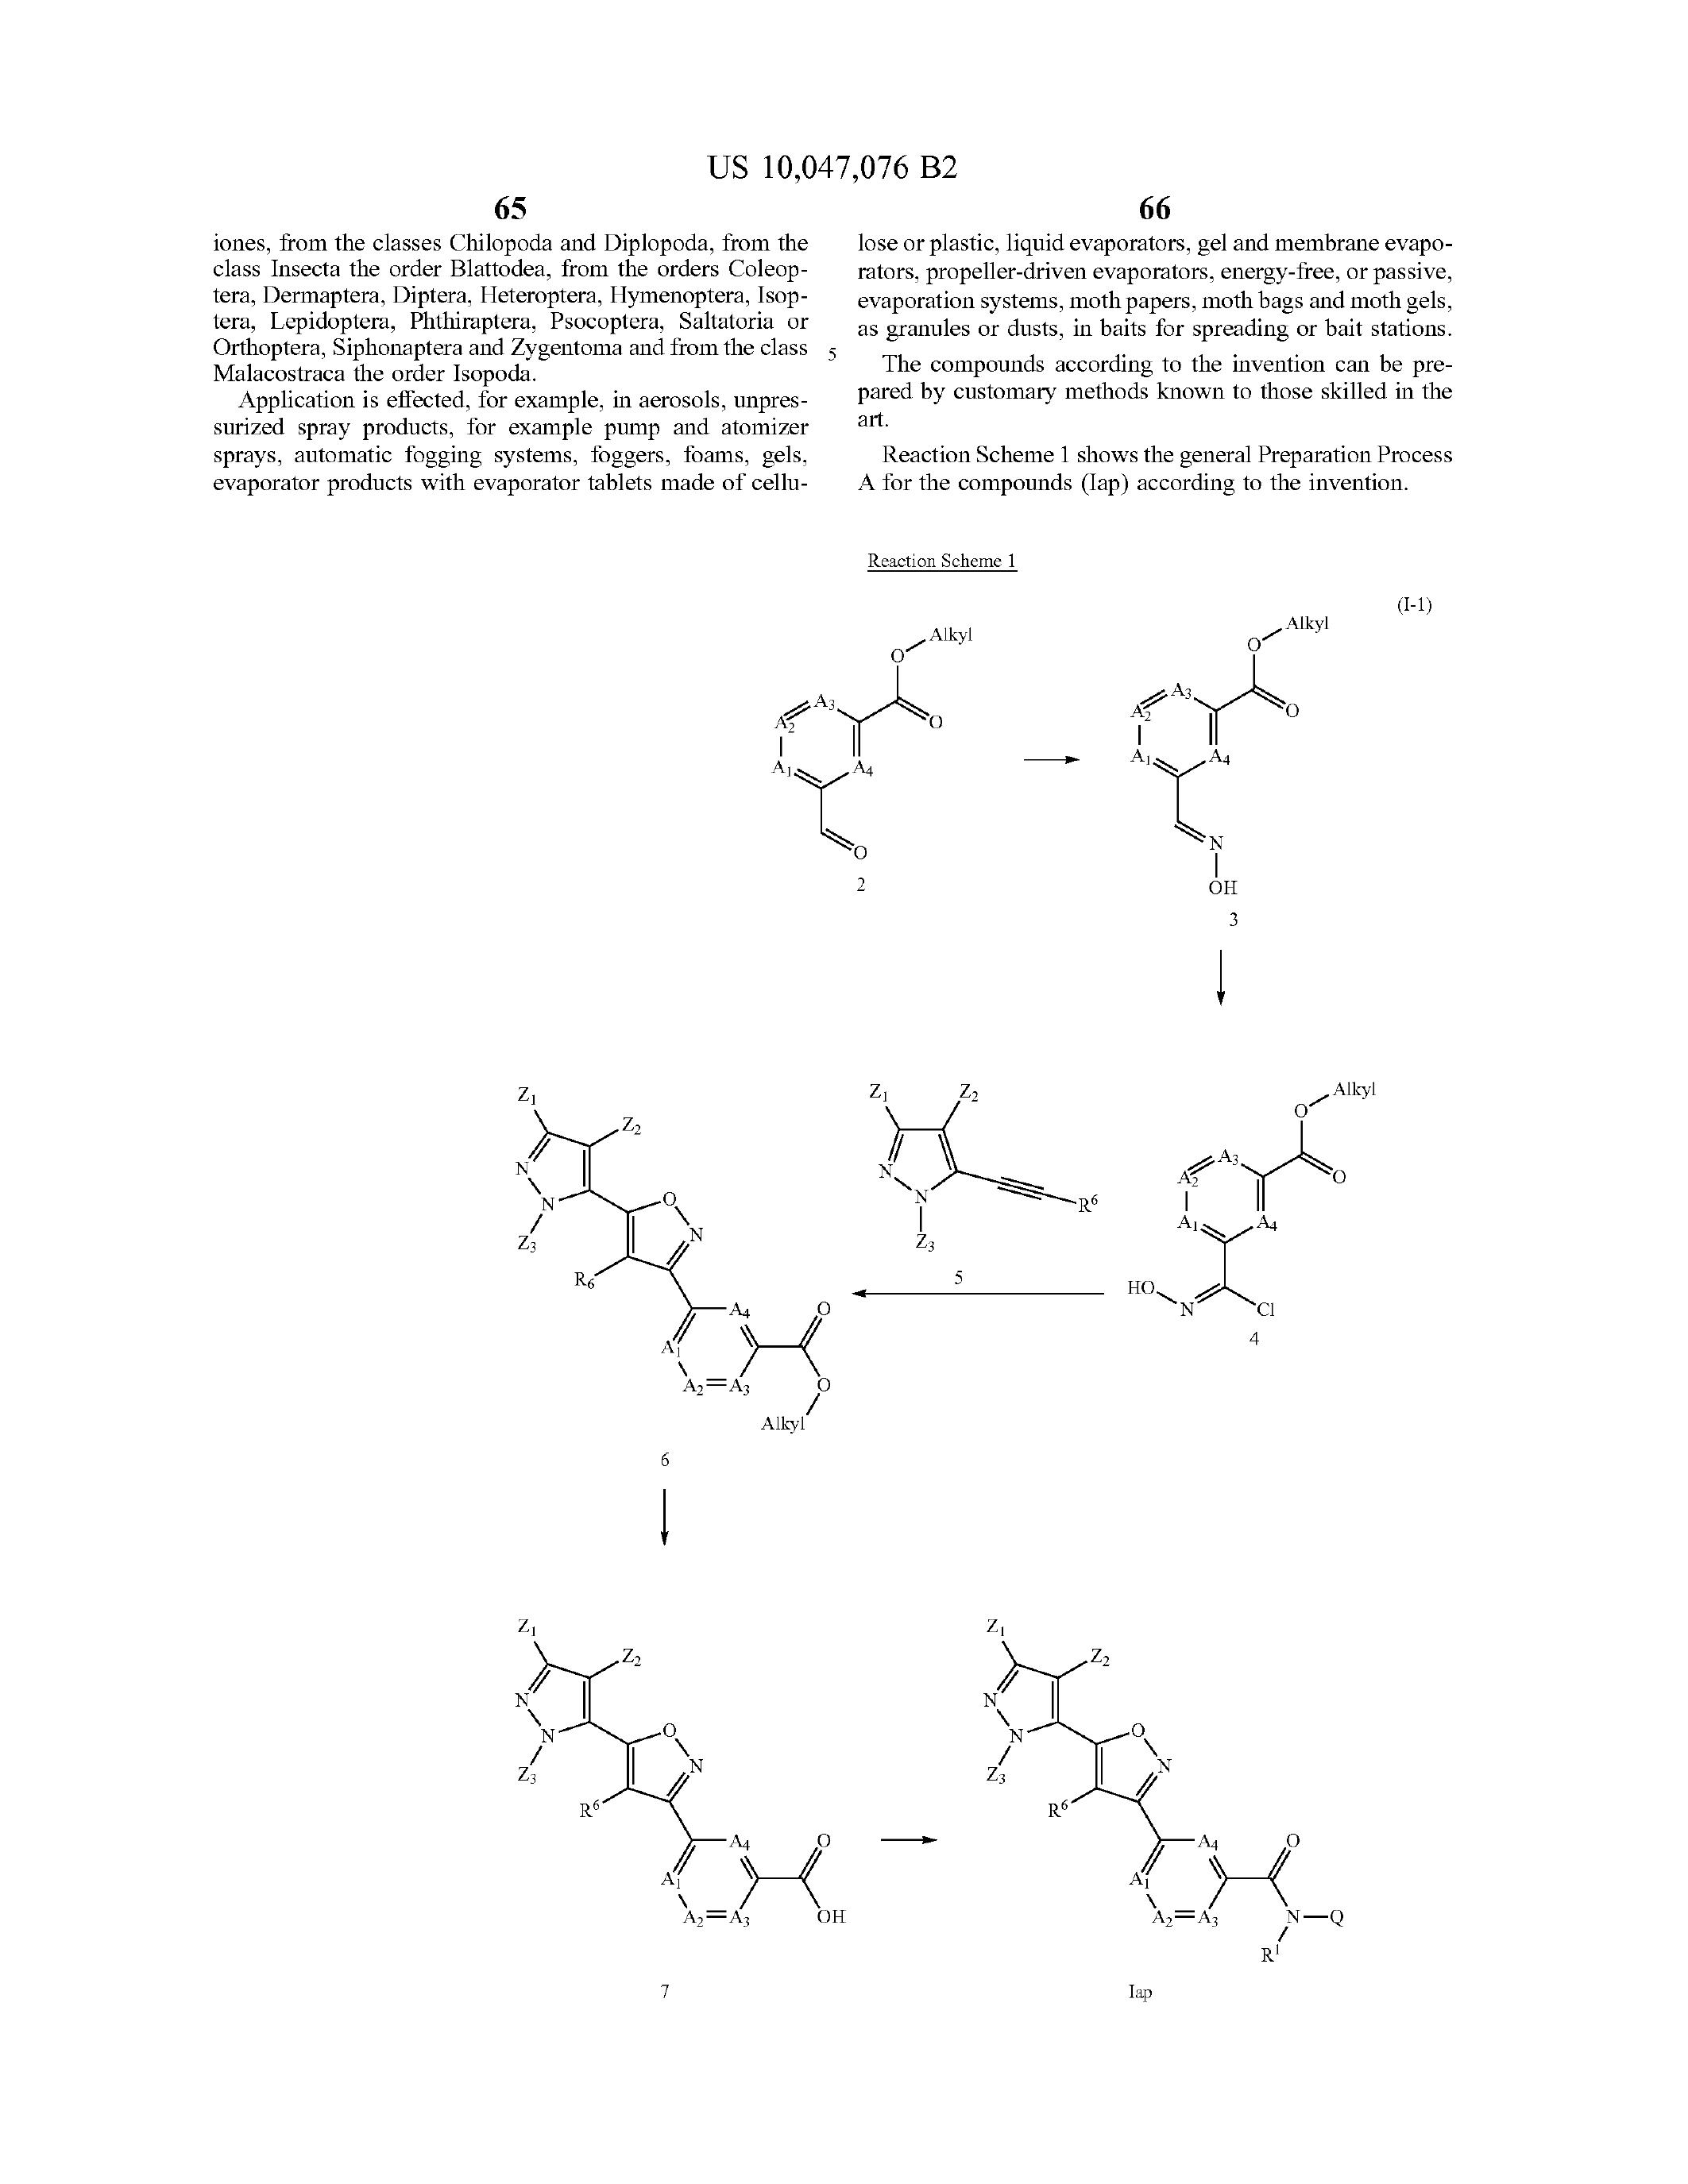reactions: (275, 587, 1498, 1984)
